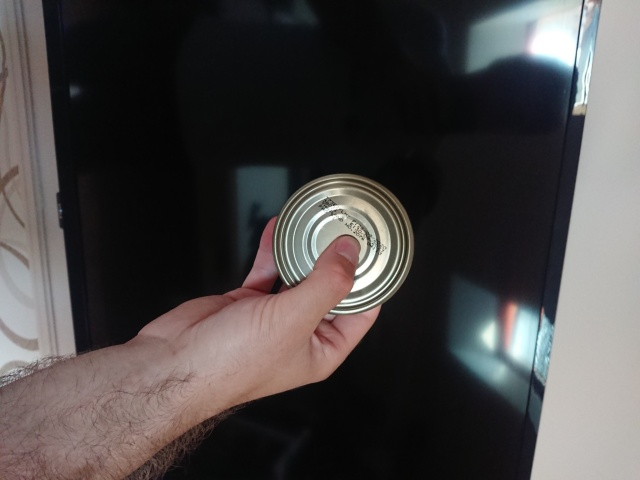Giana Tuna Salad Mexico 185g: (269, 169, 416, 318)
